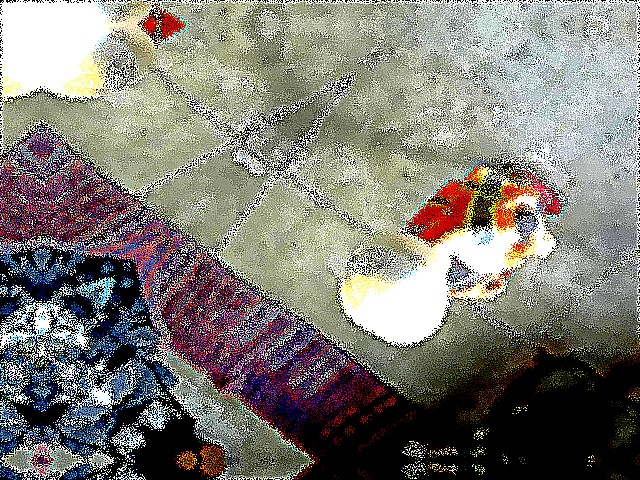eight: (341, 237, 399, 284)
